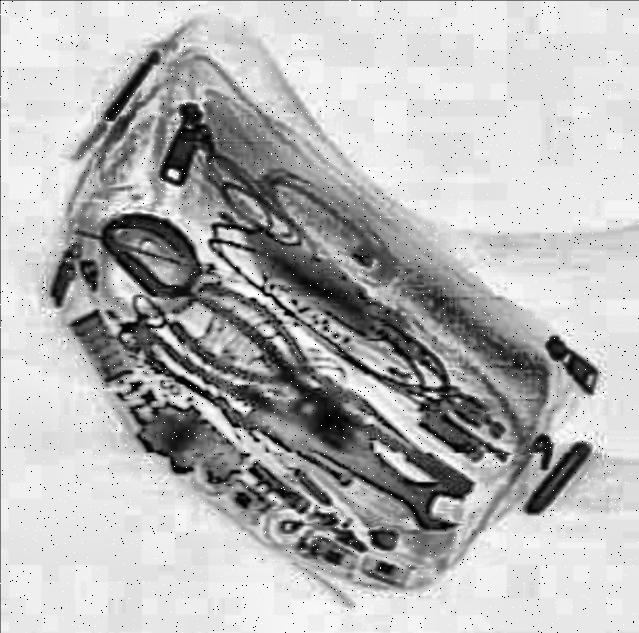Pliers: (165, 270, 412, 458), (150, 282, 384, 466)
Wrench: (216, 366, 480, 539)
